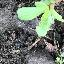Purslane: (16, 0, 64, 49)
